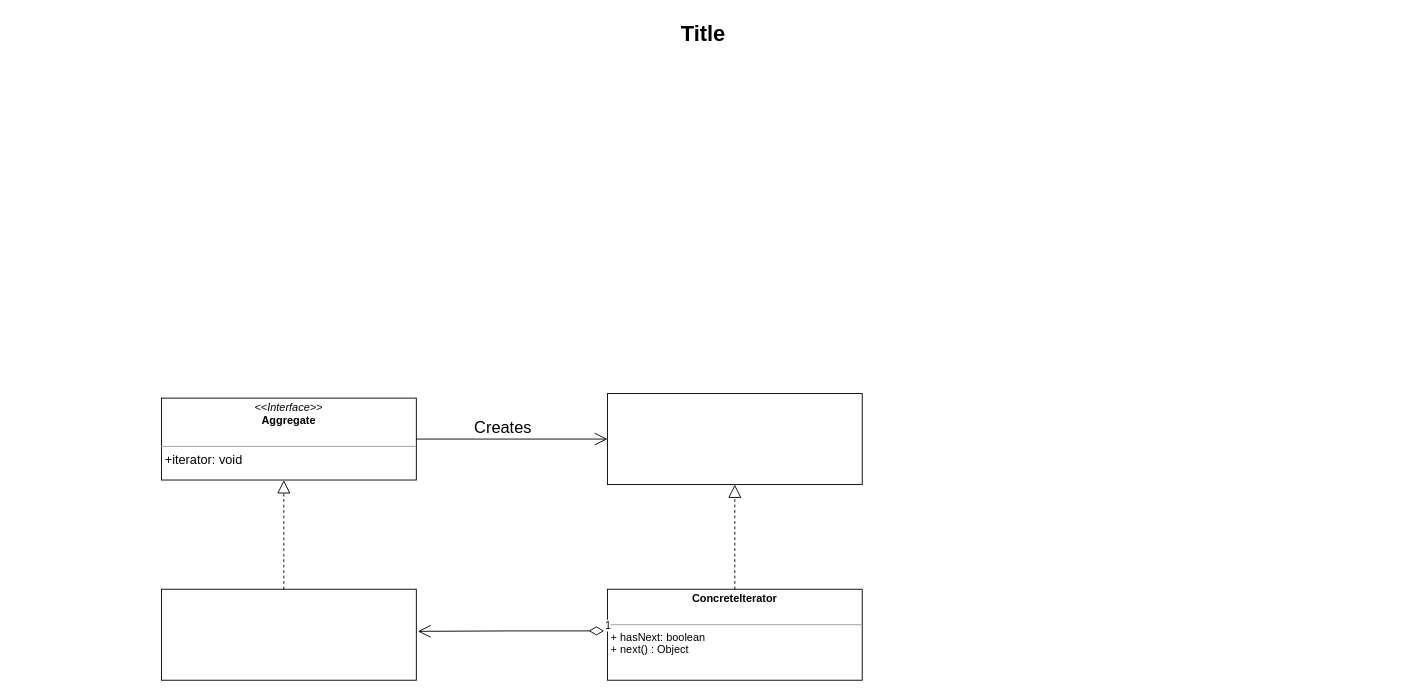
The diagram is 1405 pixels wide and 696 high, and some of its shapes have lost their labels. Here are the shapes that lost their labels. From the top down, the centre of each, then its label:
(x=734, y=439): <<Interface>> Interator +hasNext: boolean +next : Object
(x=288, y=634): BookShelf + iterator() : Interator
